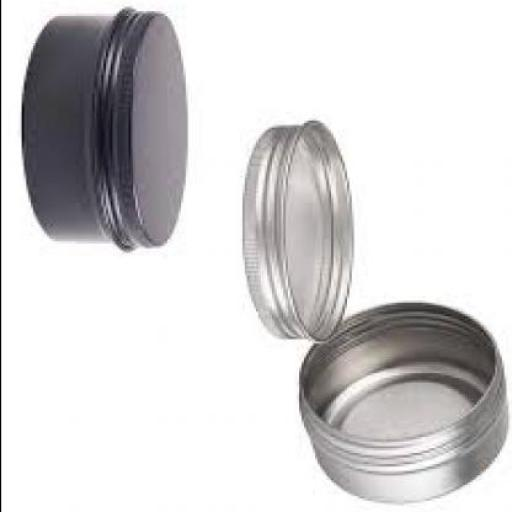metal: (302, 305, 510, 510), (23, 9, 189, 253), (244, 123, 354, 346)
